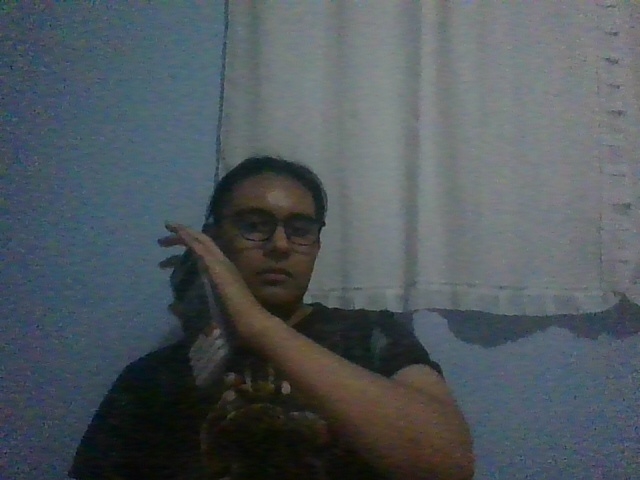calculadora: (169, 245, 234, 390)
